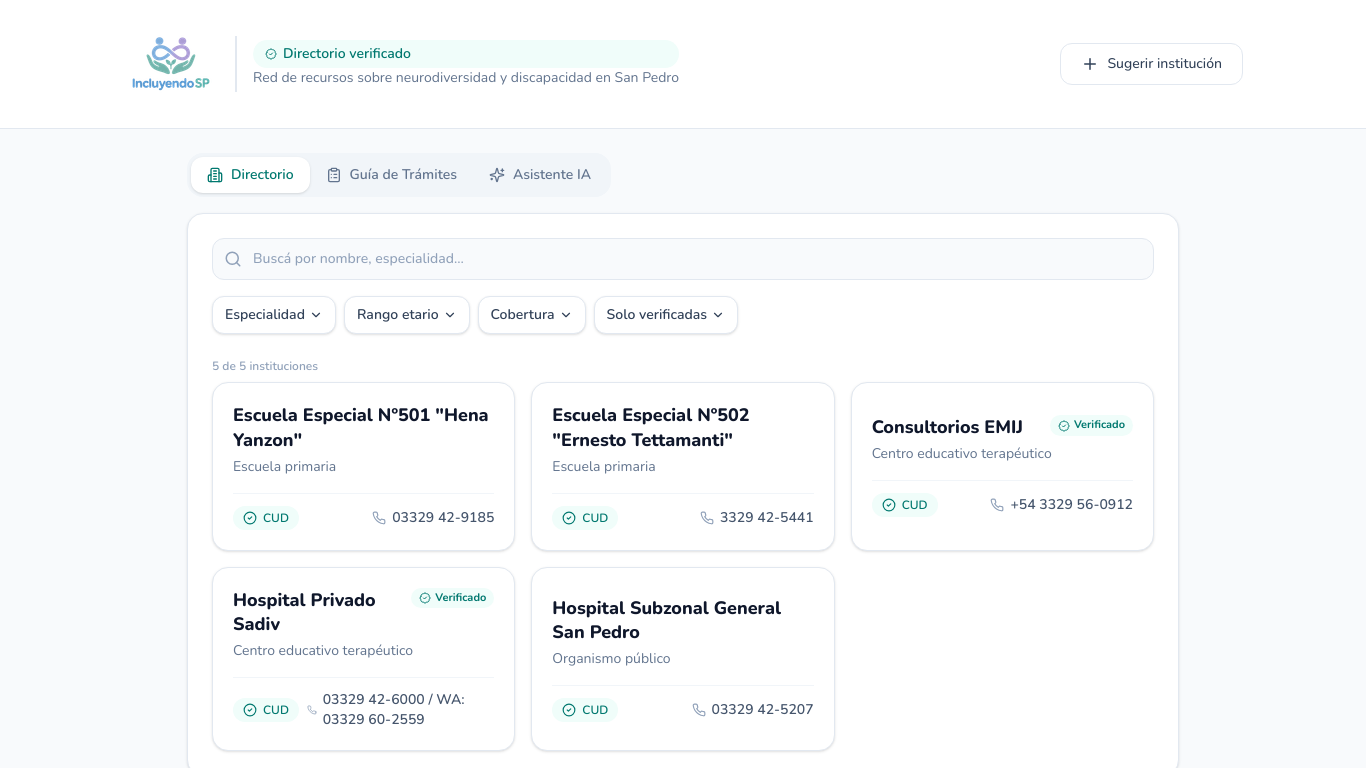
Test: main.jsx — árbol real con ChatProvider (FR-CP-1) › monta ChatProvider y el tab Asistente IA renderiza sin crashear
The width and height of the screenshot is (1366, 768).
Expected: the search field named "Buscar instituciones" is shown, [212,238,1154,280]
Note: Click en el tab Asistente IA: monta el Assistant REAL (lazy → chunk)
Click the tab "Asistente IA" at (540,175), box [473,157,607,193]
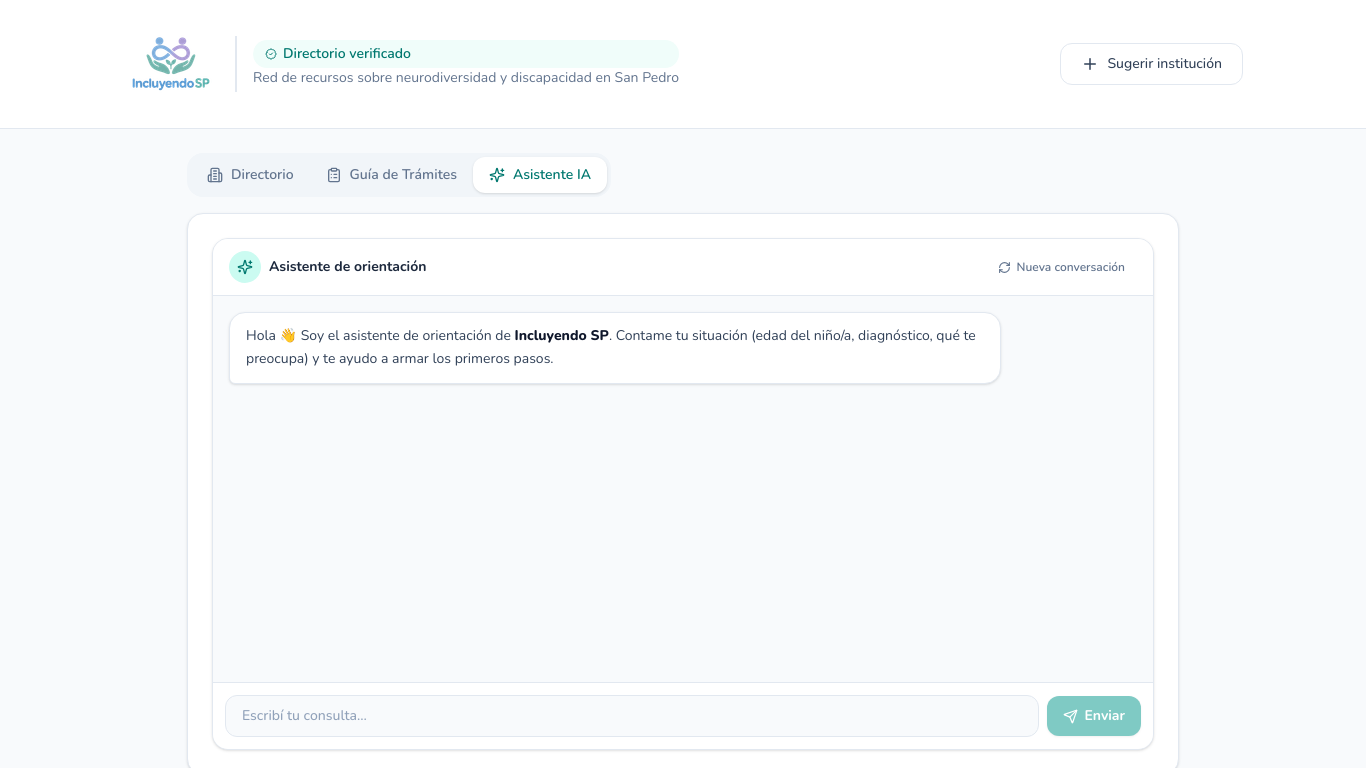
Expected: the text "Asistente de orientación" is shown, [229,251,426,283]
Expected: the field labelled "Escribí tu consulta" is shown, [225,695,1039,737]
Expected: the text "Hola 👋" is shown, [246,326,514,345]
